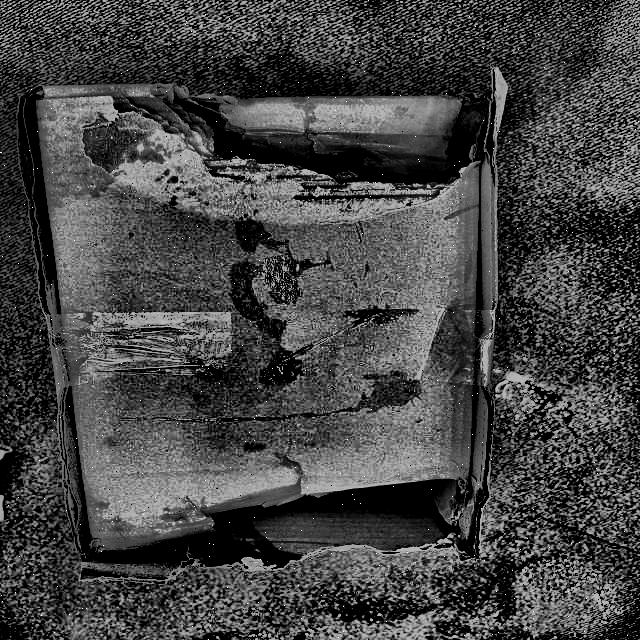box: (24, 88, 507, 566)
hole: (126, 86, 500, 201), (92, 475, 468, 568)
